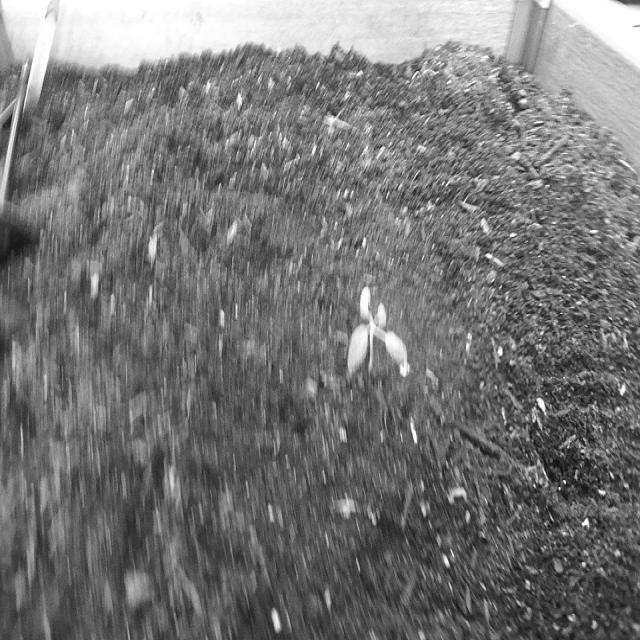Healthy: (340, 273, 414, 392)
